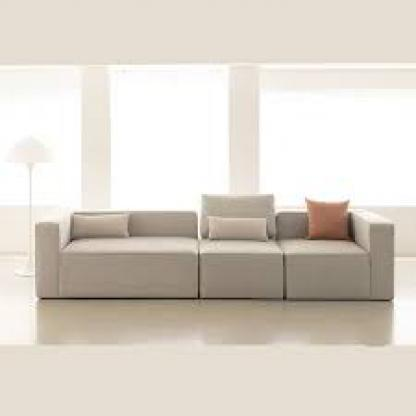sofa: (37, 194, 396, 302)
